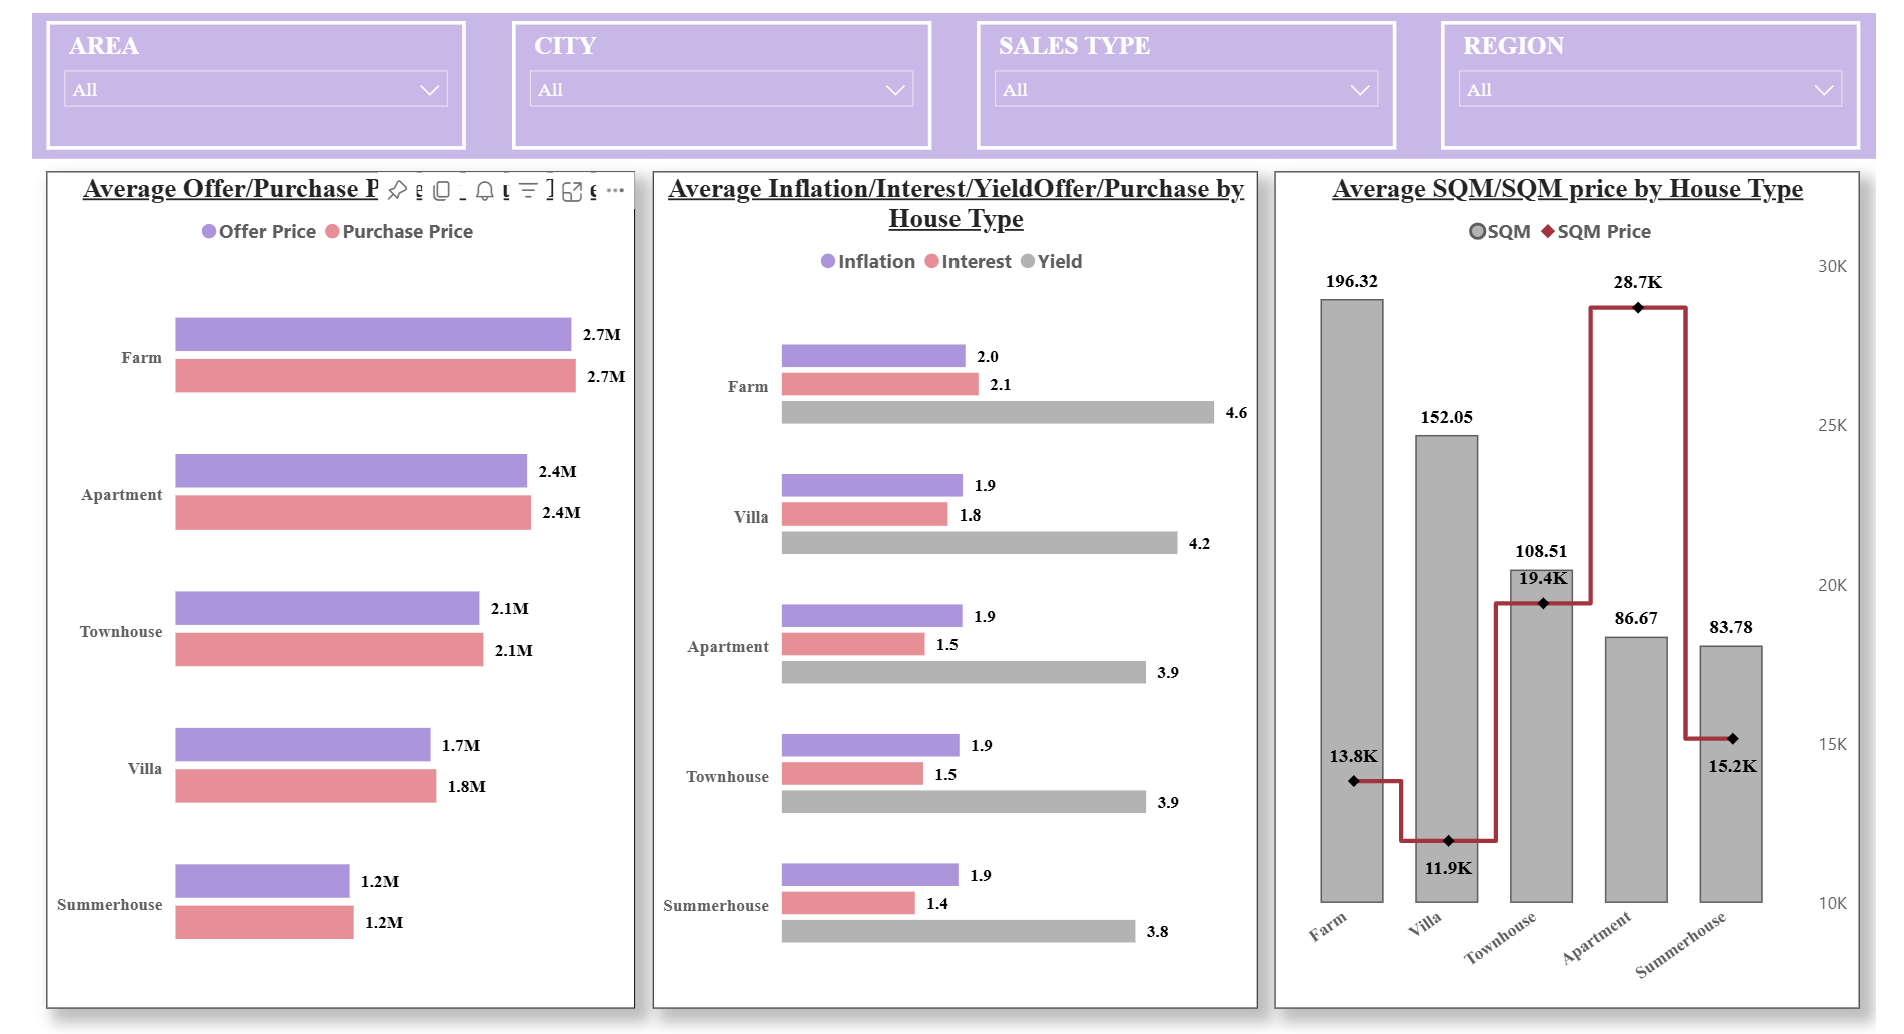

Layout of this report page (visuals, bound fields, positions):
{"tool":"powerbi","page":{"name":"House Type Analysis ","canvas":[1280,720],"ordinal":2},"visuals":[{"type":"shape","box":[0,0,1280,101.3],"z":0},{"type":"clusteredBarChart","title":"Average Offer/Purchase Price by House Type","fields":{"Category":["Housing.house_type"],"Y":["Avg(Housing.Offer Price)","Avg(Housing.purchase_price)"]},"box":[10.4,110.4,409,580.6],"z":1000},{"type":"clusteredBarChart","title":"Average Inflation/Interest/YieldOffer/Purchase by House Type","fields":{"Category":["Housing.house_type"],"Y":["Avg(Housing.dk_ann_infl_rate%)","Avg(Housing.nom_interest_rate%)","Avg(Housing.yield_on_mortgage_credit_bonds%)"]},"box":[431.3,110.4,419.4,580.6],"z":2000},{"type":"lineStackedColumnComboChart","title":"Average SQM/SQM price  by House Type","fields":{"Category":["Housing.house_type"],"Y":["Avg(Housing.sqm)"],"Y2":["Avg(Housing.sqm_price)"]},"box":[862.7,110.4,406,580.6],"z":3000},{"type":"slicer","fields":{"Values":["Housing.city"]},"box":[332.8,6,291,89.6],"z":4000},{"type":"slicer","fields":{"Values":["Housing.area"]},"box":[10.4,6,291,89.6],"z":5000},{"type":"slicer","fields":{"Values":["Housing.sales_type"]},"box":[655.2,6,291,89.6],"z":6000},{"type":"slicer","fields":{"Values":["Housing.region"]},"box":[977.6,6,291,89.6],"z":7000}]}

Visuals, with their boxes on the page's 1280x720 design canvas (x1, y1, x2, y2). These are canvas units, not pixel positions in the 1904x1034 screenshot, which may show the page scaled, cropped or inside an application window:
shape: 0, 0, 1280, 101
"Average Offer/Purchase Price by House Type" clusteredBarChart: 10, 110, 419, 691
"Average Inflation/Interest/YieldOffer/Purchase by House Type" clusteredBarChart: 431, 110, 851, 691
"Average SQM/SQM price  by House Type" lineStackedColumnComboChart: 863, 110, 1269, 691
slicer - Housing.city: 333, 6, 624, 96
slicer - Housing.area: 10, 6, 301, 96
slicer - Housing.sales_type: 655, 6, 946, 96
slicer - Housing.region: 978, 6, 1269, 96
